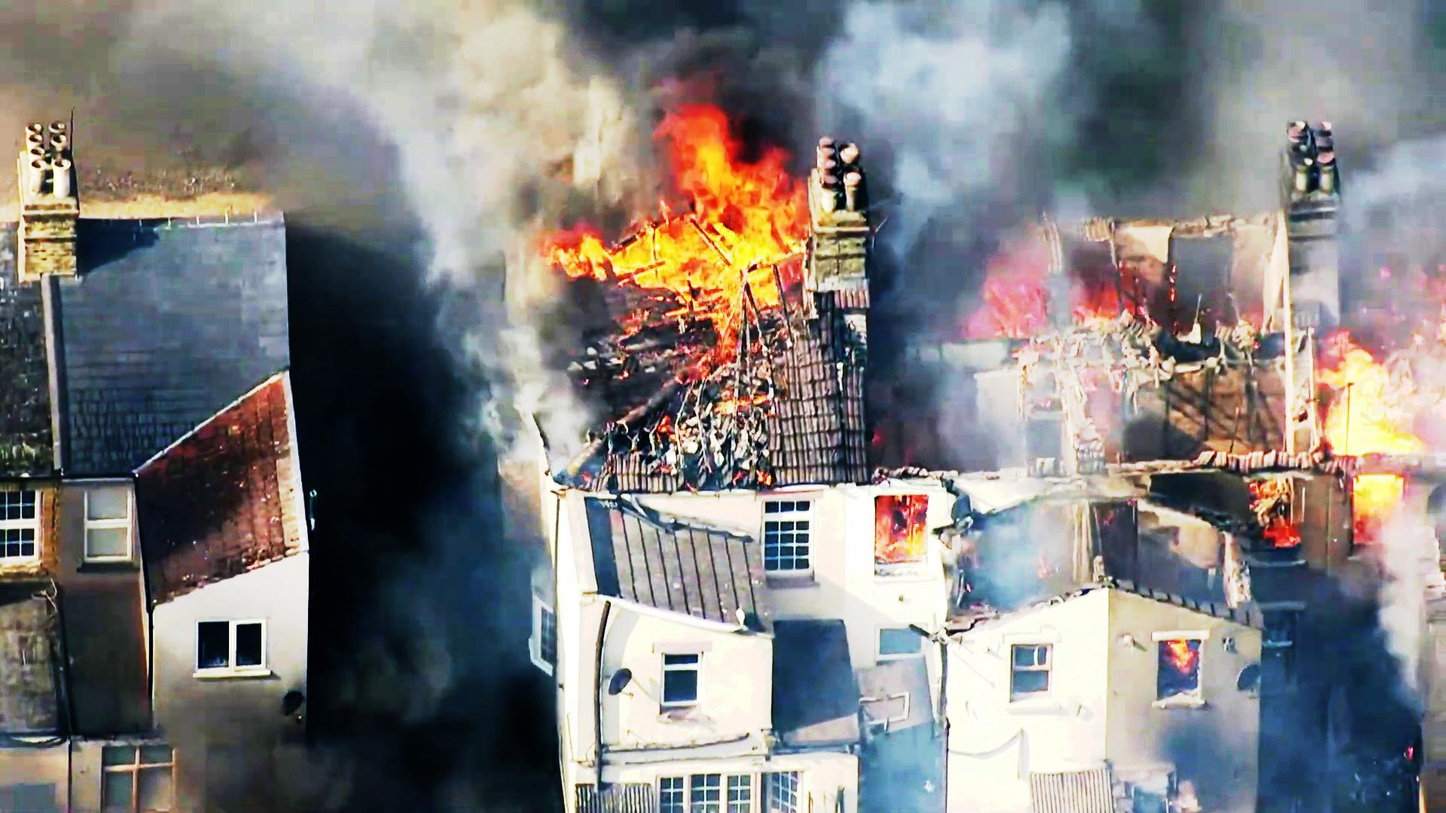fire: (556, 93, 844, 302)
